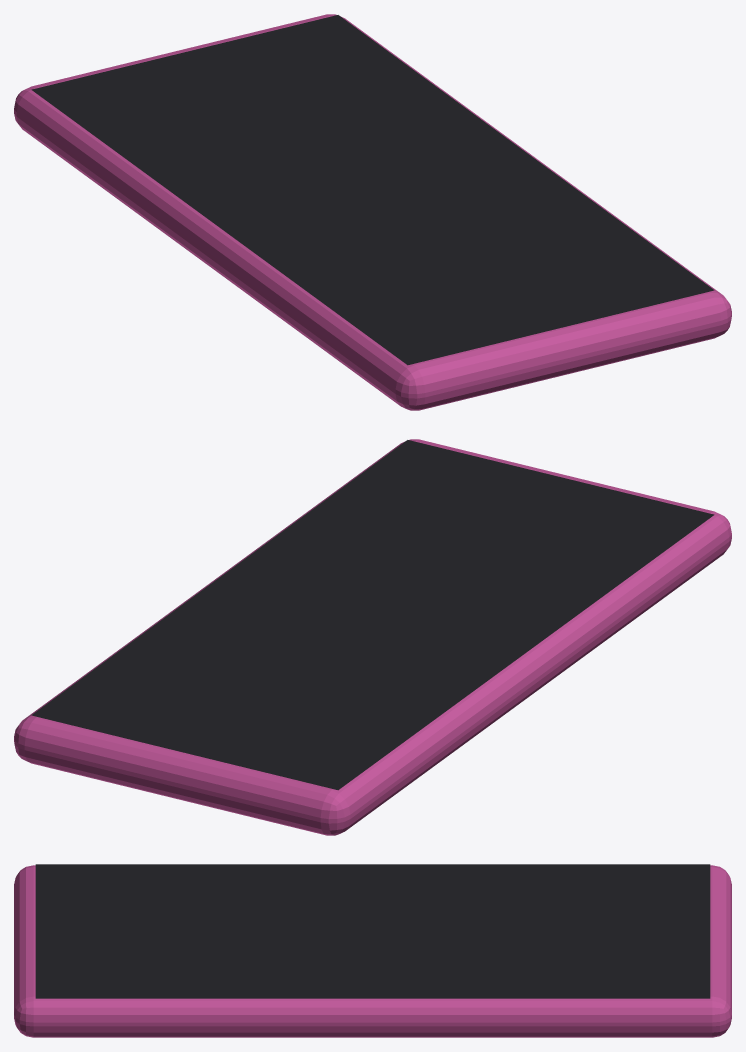
Rendered from Phone_918.glb.
The picture shows the model from 3 angles, top to bottom: view 1: azimuth 30°, elevation 25°; view 2: azimuth 150°, elevation 25°; view 3: azimuth 270°, elevation 25°; orthographic projection. The views are drawn at different scales.
Parts seen in each view (by area): view 1: Phone_Screen, Phone_Body; view 2: Phone_Screen, Phone_Body; view 3: Phone_Screen, Phone_Body.
Part boxes in pixels (x1=…): Phone_Screen: x1=31, y1=15, x2=714, y2=365; Phone_Body: x1=14, y1=14, x2=731, y2=410; Phone_Screen: x1=31, y1=440, x2=714, y2=790; Phone_Body: x1=14, y1=439, x2=731, y2=835; Phone_Screen: x1=35, y1=864, x2=710, y2=998; Phone_Body: x1=14, y1=865, x2=731, y2=1037.
Size of the model in its own units: 0.0724 by 0.0092 by 0.1505.
